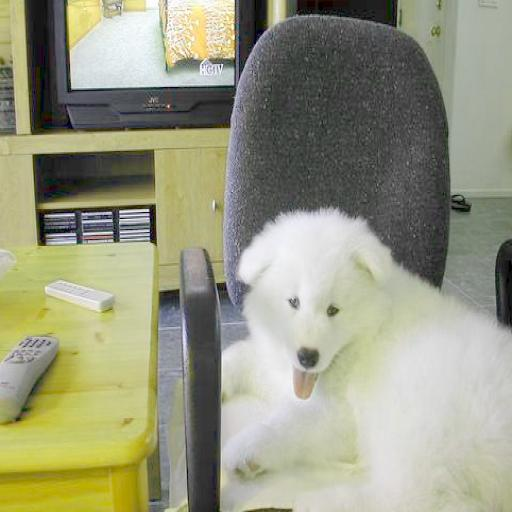dog_face: (242, 220, 376, 386)
